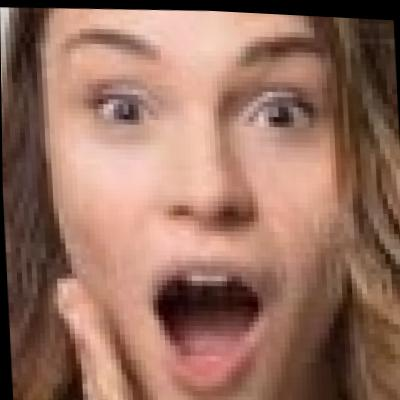surprise: (47, 2, 355, 400)
